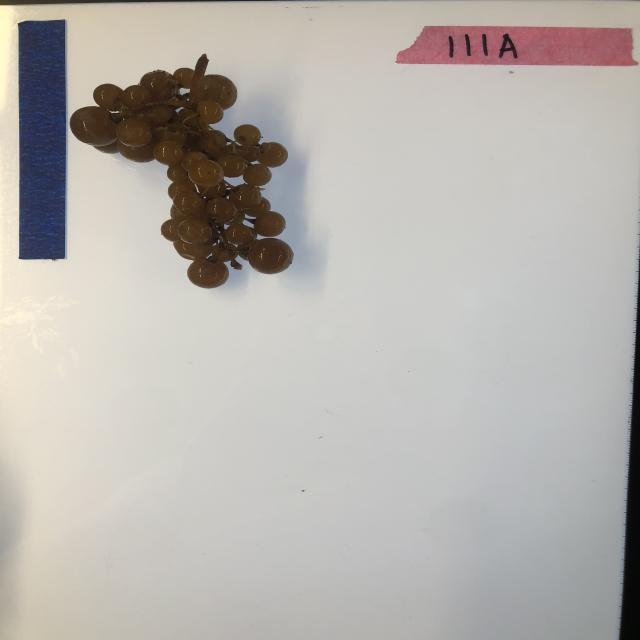grape_cluster: (70, 53, 298, 290)
index: (395, 24, 638, 66)
measure_label: (18, 18, 68, 260)
